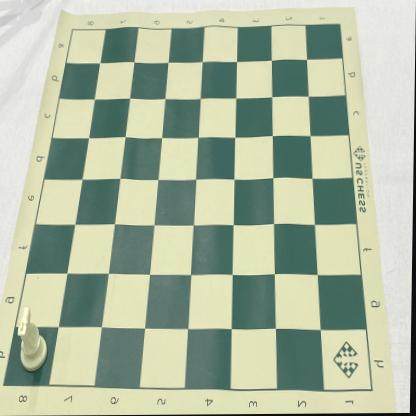white-knight: (18, 306, 49, 374)
